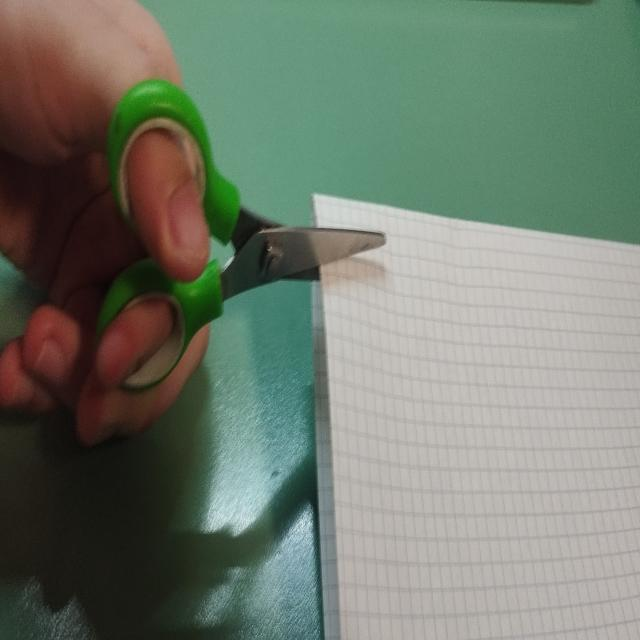tesoura: (88, 75, 391, 401)
